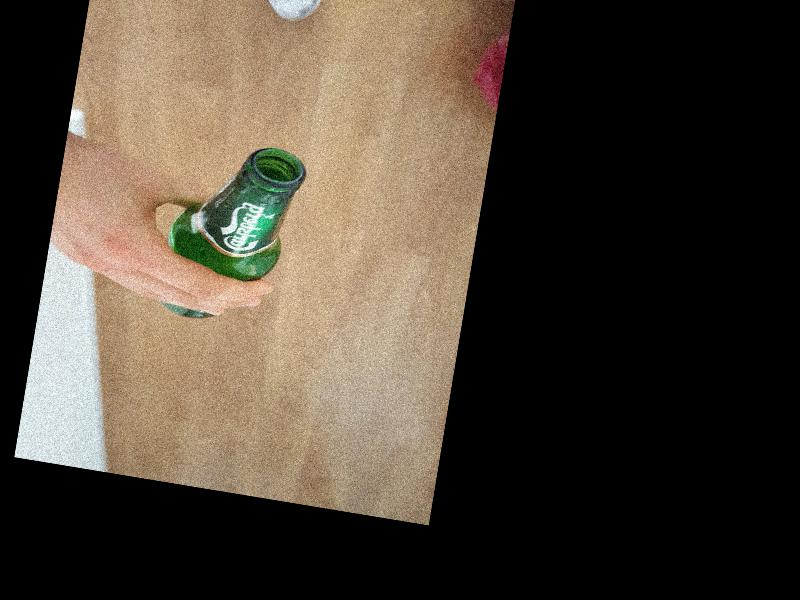Beer: (157, 134, 310, 332)
